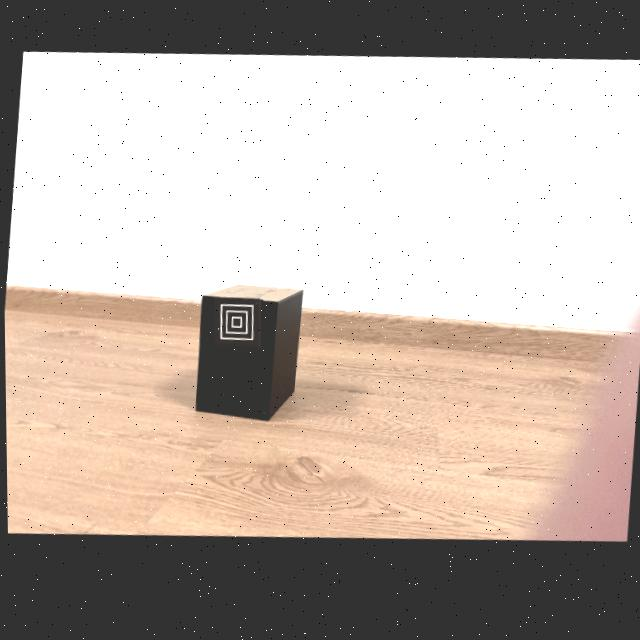BULLSEYE: (212, 301, 259, 351)
